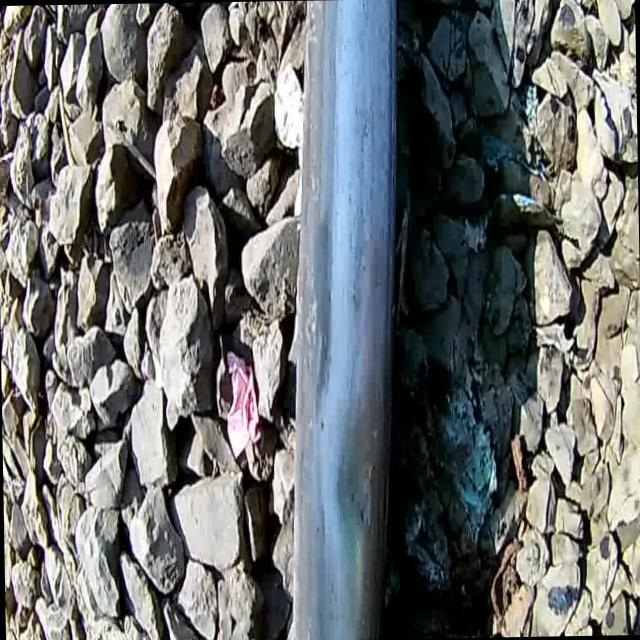Squats: (251, 0, 428, 640)
